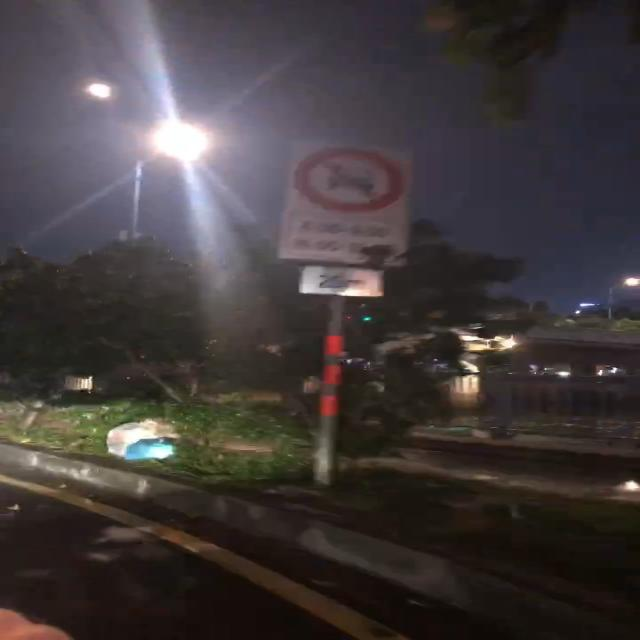Bien bao cam xe oto: (285, 139, 419, 213)
